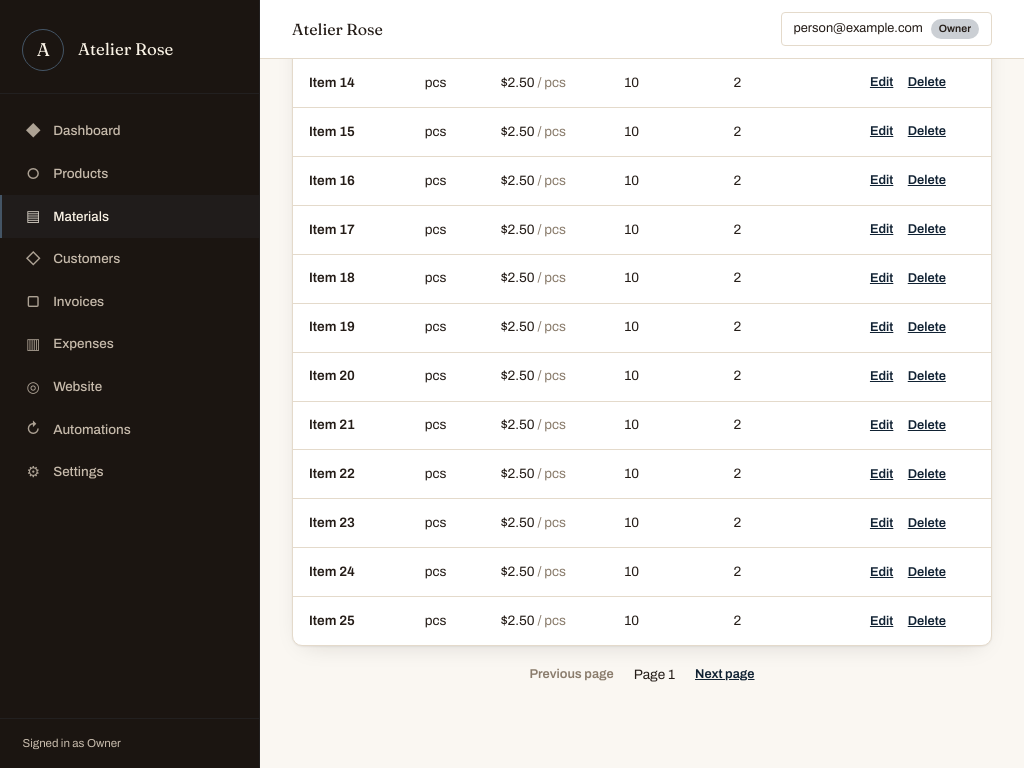
Test case: materials list › pages through results 25 at a time
(page scrolled)
Step 1. Click the button "Next page" → point(725, 675), box [695,662,754,688]
(page scrolled)
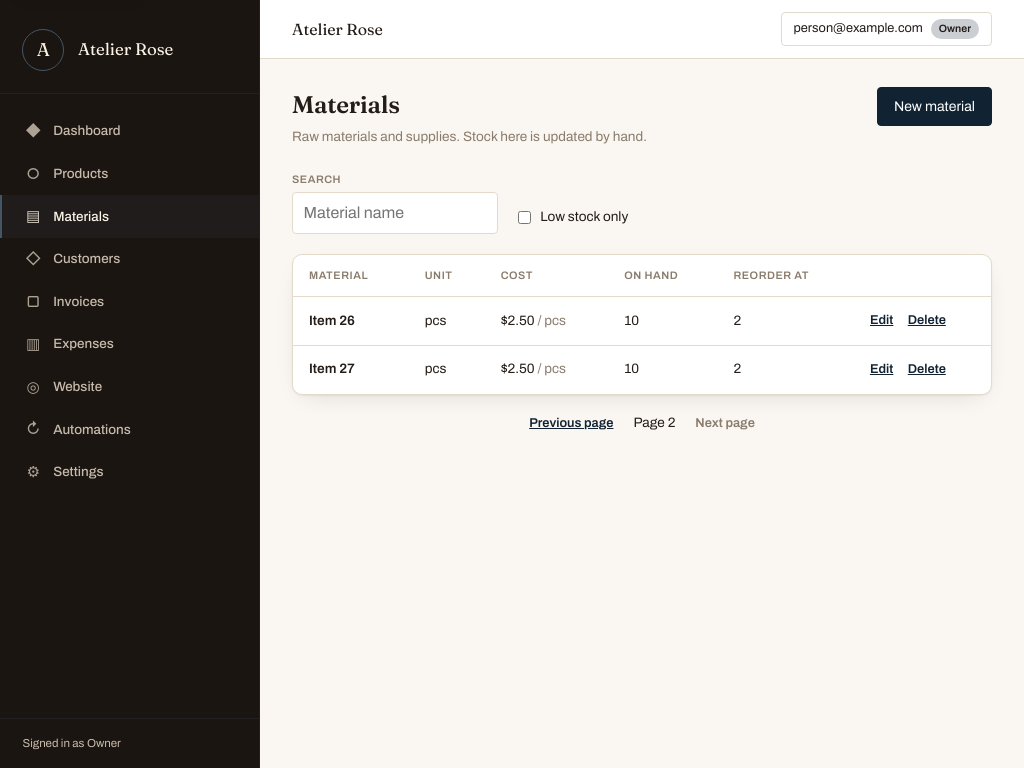
expect the cell "Item 26" is shown: met, box [293,297,409,345]
expect the button "Next page" is disabled: met, box [695,411,755,436]
